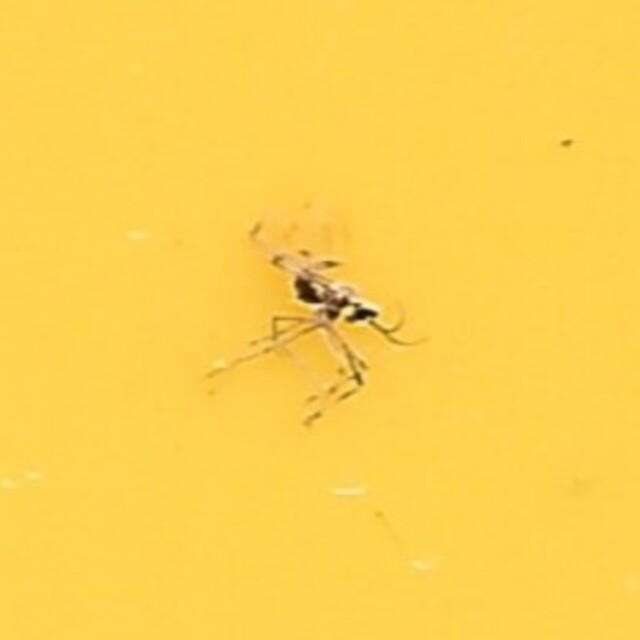Nematocera: (239, 211, 401, 429)
